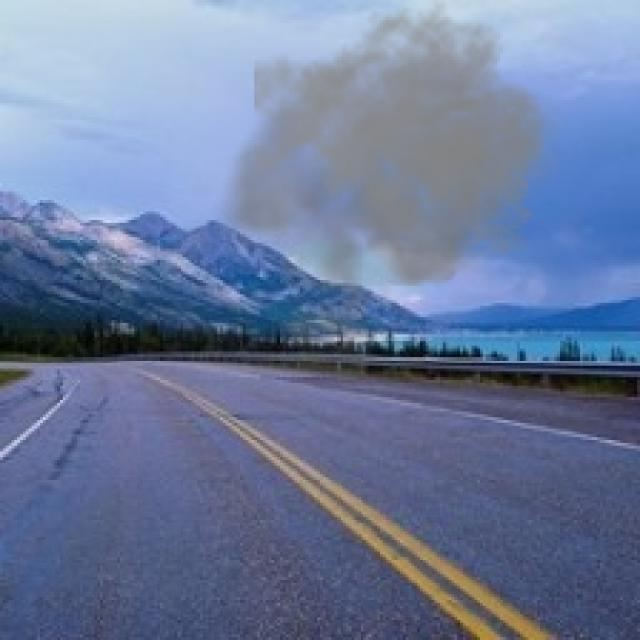Smoke: (212, 0, 572, 389)
